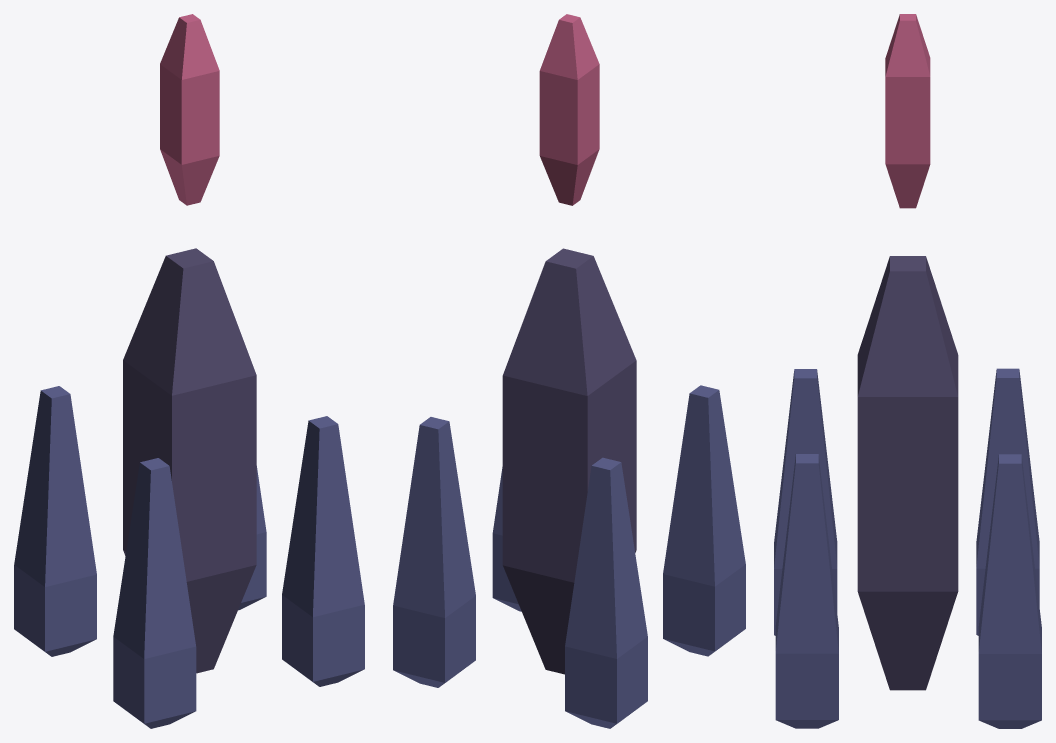
The model's file is monolith.glb.
The picture shows the model from 3 angles, left to right: view 1: azimuth 30°, elevation 25°; view 2: azimuth 150°, elevation 25°; view 3: azimuth 270°, elevation 25°; orthographic projection. The views are drawn at different scales.
Visible parts, largest first — view 1: Cube, Cube.005, Cube.004, Cube.002, Cube.001, Cube.003; view 2: Cube, Cube.003, Cube.005, Cube.002, Cube.001, Cube.004; view 3: Cube, Cube.004, Cube.003, Cube.001, Cube.002, Cube.005.
Boxes of the visible parts, x1,y1,x2,y2 form: Cube: (123, 248, 256, 673); Cube.005: (113, 458, 196, 728); Cube.004: (282, 416, 364, 686); Cube.002: (14, 386, 96, 656); Cube.001: (160, 14, 219, 205); Cube.003: (238, 466, 266, 610); Cube: (502, 248, 636, 674); Cube.003: (393, 417, 475, 687); Cube.005: (663, 385, 745, 656); Cube.002: (565, 457, 647, 728); Cube.001: (539, 14, 599, 205); Cube.004: (492, 467, 521, 611); Cube: (857, 256, 958, 690); Cube.004: (775, 454, 838, 728); Cube.003: (978, 454, 1041, 728); Cube.001: (885, 14, 930, 208); Cube.002: (976, 368, 1039, 635); Cube.005: (774, 369, 837, 635).
Bounding box in the file's own units: 5.26 × 14.62 × 5.34.
6 materials, 6 textured.
